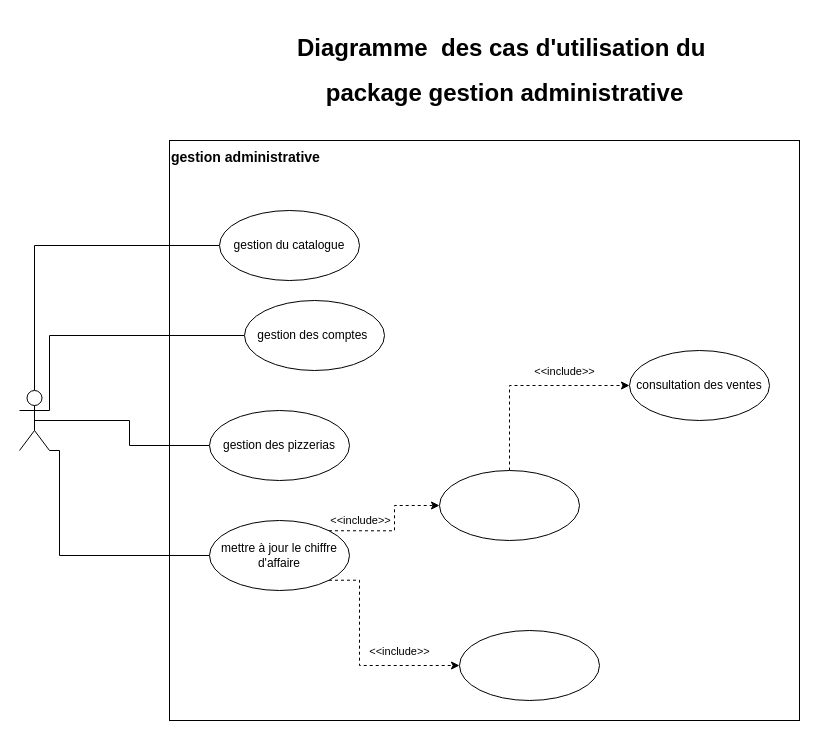
Image size: 817x743. Some labels were removed from this diagram. The centre of each missing label's shape, as x and y in pixels:
consultation des dépenses: the point at 529,665
consultation des gains: the point at 509,505
patron: the point at 34,420
